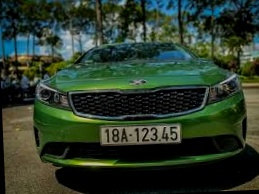Bien-so: (93, 122, 172, 146)
